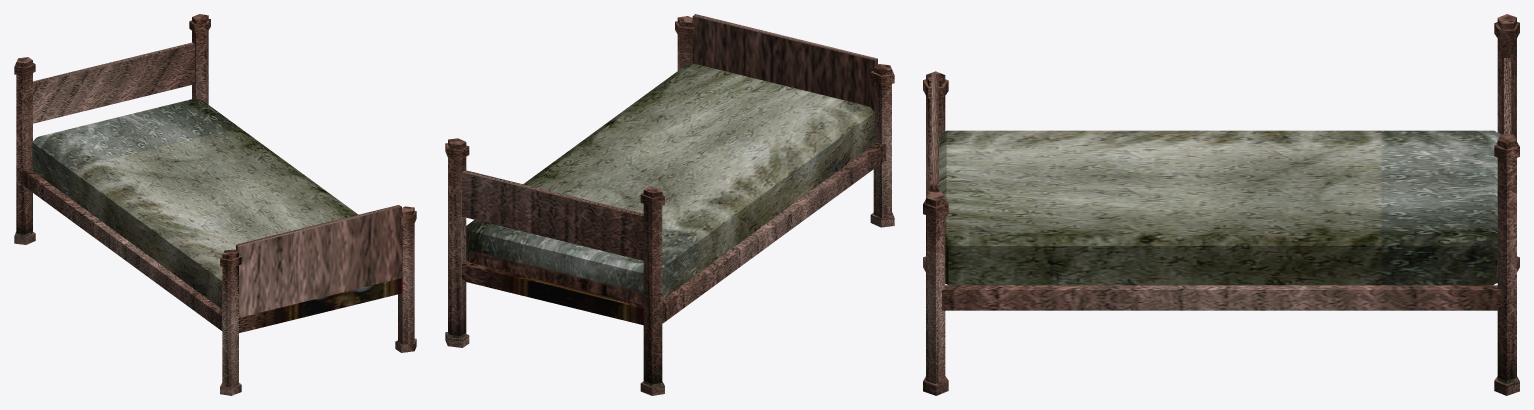
The model's file is cama.obj.
3 views of the same model, side by side, from view 1: azimuth 30°, elevation 25°; view 2: azimuth 150°, elevation 25°; view 3: azimuth 270°, elevation 25° (orthographic). The views are drawn at different scales.
Visible parts, largest first — view 1: polySurface1; view 2: polySurface1; view 3: polySurface1.
Part boxes in pixels (x1,y1,x2,y2): polySurface1: (14, 14, 416, 395); polySurface1: (445, 14, 894, 395); polySurface1: (923, 14, 1519, 395).
Bounding box in the file's own units: 1.63 × 1.43 × 3.08.
1 material, 1 textured.
